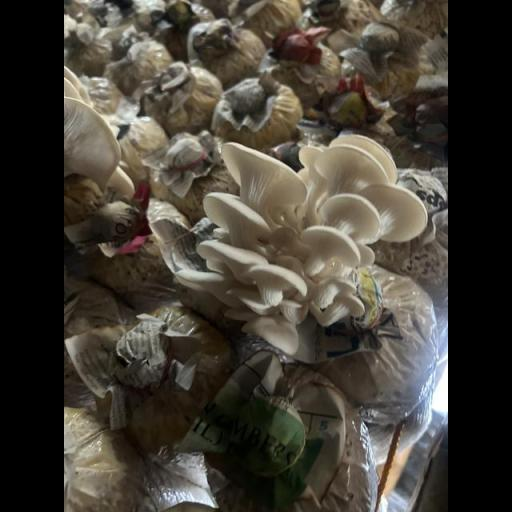White Oyster Mushroom: (166, 115, 436, 359)
